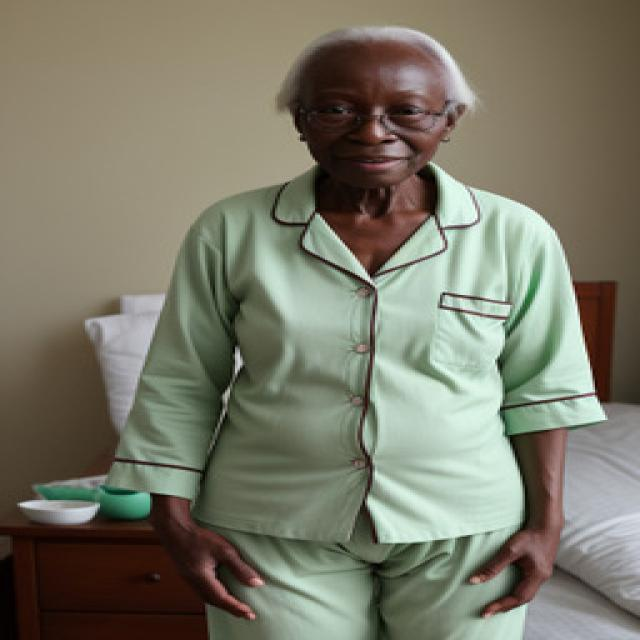Ai human 2: (142, 15, 612, 640)
